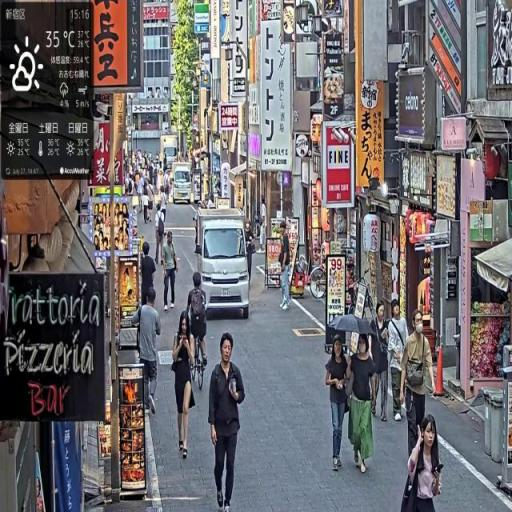person: (208, 331, 247, 512), (399, 308, 437, 467), (347, 332, 379, 479), (172, 310, 200, 460), (403, 412, 444, 512), (325, 333, 351, 474), (138, 289, 163, 416), (388, 299, 411, 424), (372, 303, 392, 424), (187, 271, 209, 373), (163, 231, 180, 312), (140, 241, 158, 311), (155, 207, 168, 270)
